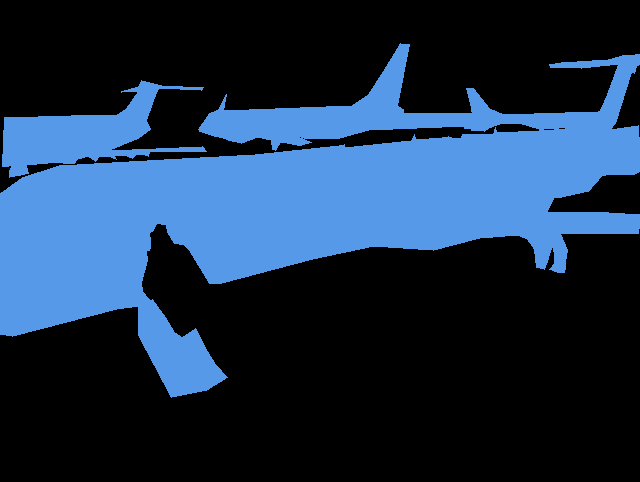Airplane: (0, 54, 640, 398), (198, 43, 475, 151), (2, 80, 206, 178), (464, 88, 600, 131)
